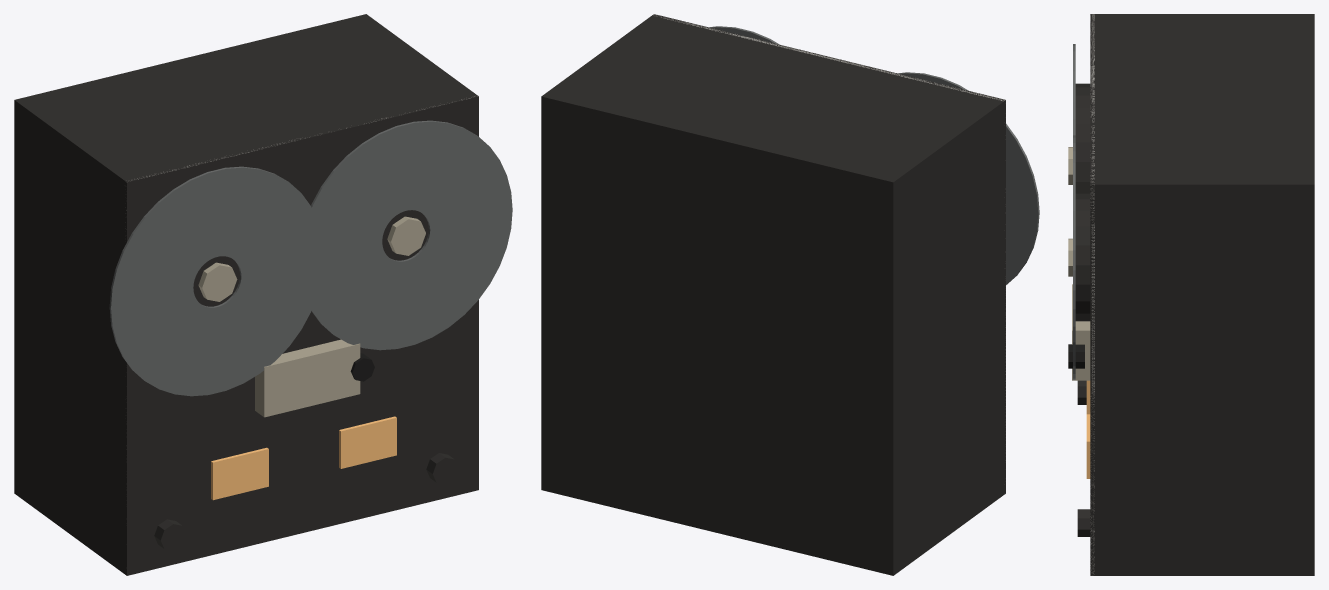
Rendered from reel-to-reel.glb.
3 views of the same model, side by side, from view 1: azimuth 30°, elevation 25°; view 2: azimuth 150°, elevation 25°; view 3: azimuth 270°, elevation 25° (orthographic).
Visible parts, largest first — view 1: plastic-dark, metal, plastic-light, emissive-warm; view 2: plastic-dark, metal, brushed; view 3: plastic-dark, brushed, plastic-light, metal, emissive-warm, rubber.
Boxes of the visible parts, left/top/right/bottom form: plastic-dark: left=14, top=14, right=478, bottom=575; metal: left=109, top=120, right=512, bottom=396; plastic-light: left=198, top=216, right=425, bottom=417; emissive-warm: left=211, top=416, right=396, bottom=500; plastic-dark: left=541, top=14, right=1005, bottom=575; metal: left=709, top=26, right=1039, bottom=284; brushed: left=653, top=14, right=1005, bottom=460; plastic-dark: left=1075, top=14, right=1314, bottom=575; brushed: left=1090, top=14, right=1094, bottom=575; plastic-light: left=1068, top=147, right=1090, bottom=380; metal: left=1073, top=44, right=1075, bottom=379; emissive-warm: left=1086, top=380, right=1090, bottom=478; rubber: left=1068, top=344, right=1084, bottom=368.
Size of the model in its own units: 0.502 by 0.47 by 0.268.
